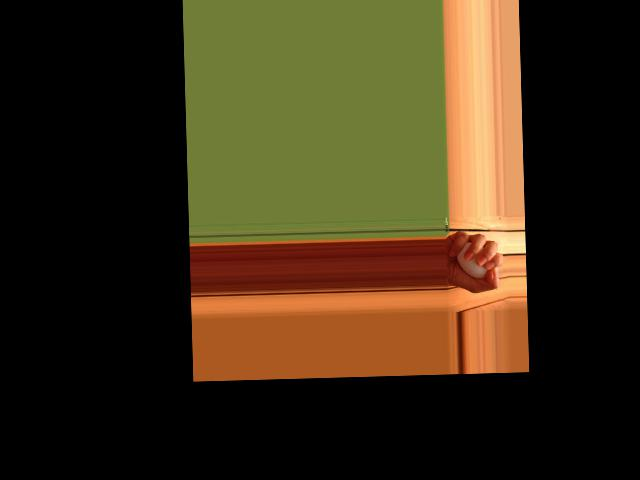egg: (456, 240, 490, 278)
